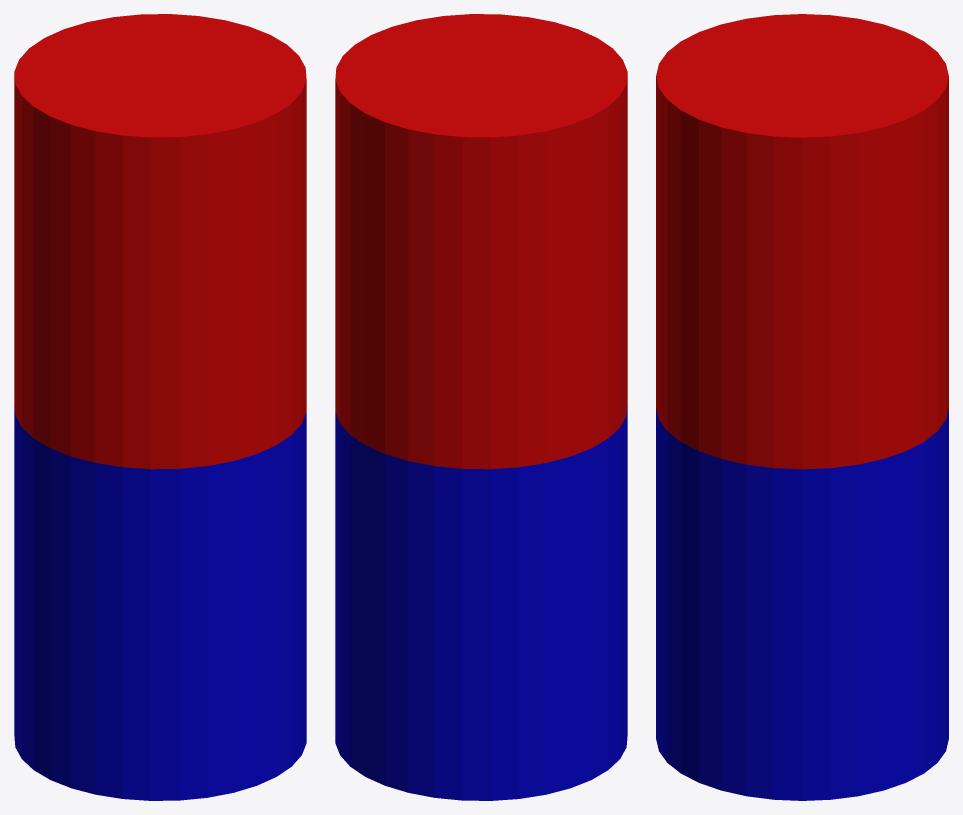
The model's file is rod.dae.
3 views of the same model, side by side, from view 1: azimuth 30°, elevation 25°; view 2: azimuth 150°, elevation 25°; view 3: azimuth 270°, elevation 25° (orthographic).
Parts seen in each view (by area): view 1: Cylinder; view 2: Cylinder; view 3: Cylinder.
Boxes of the visible parts, left/top/right/bottom form: Cylinder: left=14, top=14, right=306, bottom=800; Cylinder: left=335, top=14, right=627, bottom=800; Cylinder: left=656, top=14, right=948, bottom=800.
Size of the model in its own units: 0.08 by 0.08 by 0.2.
